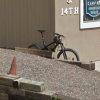Bicycle: (29, 20, 83, 65)
